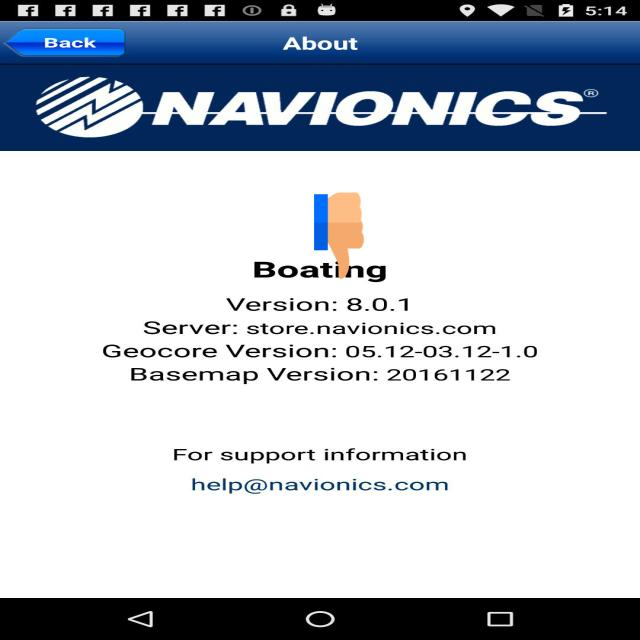obstruction: (314, 190, 364, 281)
